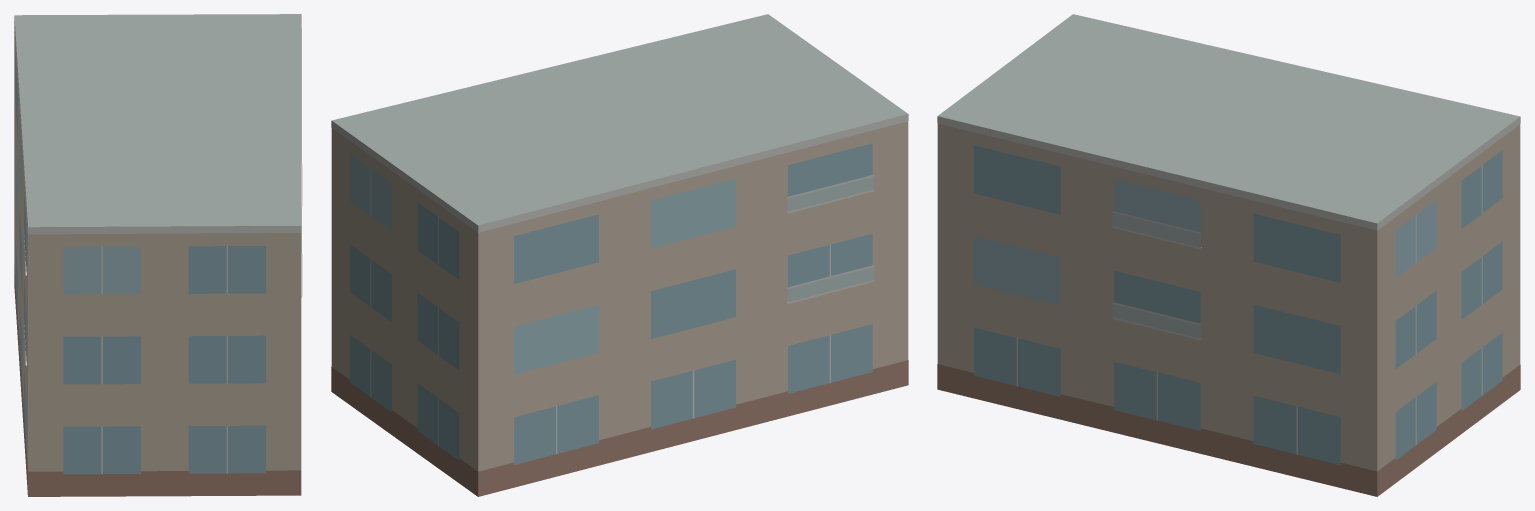
File: survey-upis-32877619.glb
3 renders of one model, left to right at view 1: azimuth 30°, elevation 25°; view 2: azimuth 150°, elevation 25°; view 3: azimuth 270°, elevation 25°, orthographic.
Parts seen in each view (by area): view 1: survey-upis-32877619.tmp; view 2: survey-upis-32877619.tmp; view 3: survey-upis-32877619.tmp.
Part boxes in pixels (x1,y1,x2,y2): survey-upis-32877619.tmp: (14, 14, 302, 496); survey-upis-32877619.tmp: (331, 14, 908, 496); survey-upis-32877619.tmp: (937, 14, 1520, 496).
Bounding box in the file's own units: 15.04 × 9.15 × 17.69.
